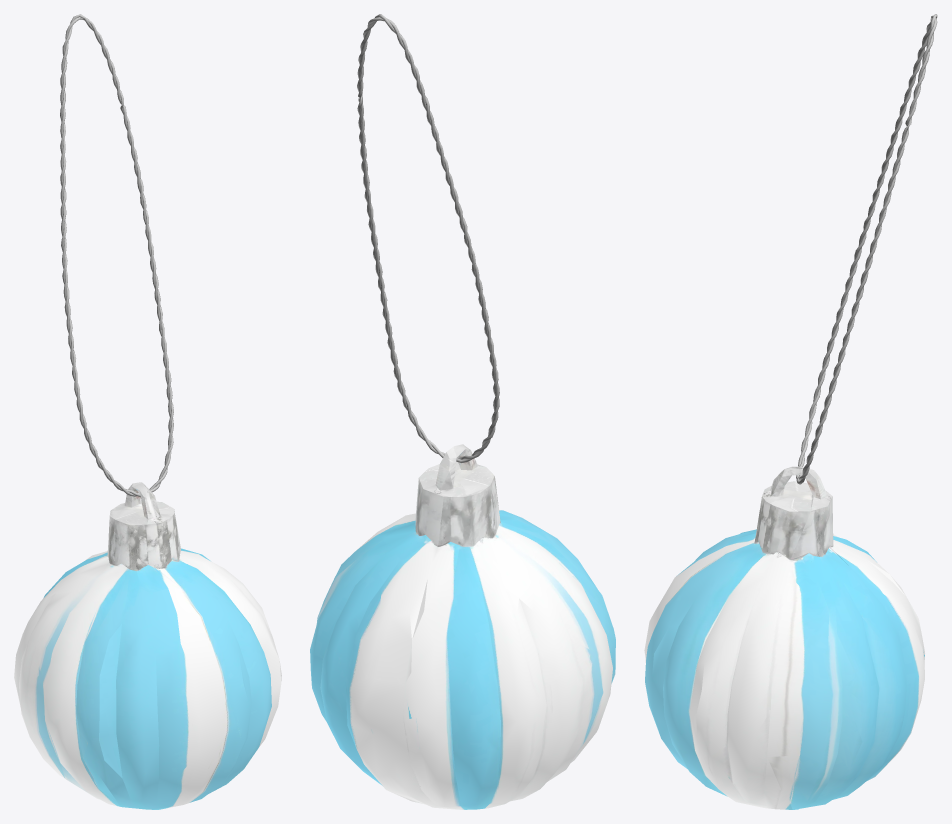
The model's file is Blue_and_White_Stripe.glb.
The picture shows the model from 3 angles, left to right: view 1: azimuth 30°, elevation 25°; view 2: azimuth 150°, elevation 25°; view 3: azimuth 270°, elevation 25°; orthographic projection. The views are drawn at different scales.
Visible parts, largest first — view 1: Mesh1.0, GN Instance; view 2: Mesh1.0, GN Instance; view 3: Mesh1.0, GN Instance.
Boxes of the visible parts, left/top/right/bottom form: Mesh1.0: left=14, top=482, right=281, bottom=809; GN Instance: left=60, top=14, right=173, bottom=496; Mesh1.0: left=310, top=444, right=615, bottom=809; GN Instance: left=357, top=14, right=499, bottom=463; Mesh1.0: left=644, top=466, right=924, bottom=809; GN Instance: left=796, top=14, right=937, bottom=484.
Size of the model in its own units: 0.0305 by 0.0943 by 0.0319.
2 materials, 1 textured.
